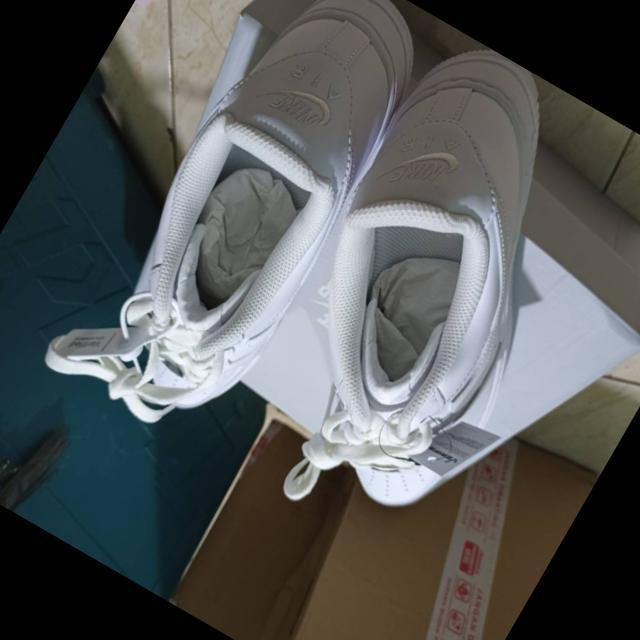nike original air force: (220, 22, 640, 535), (67, 0, 452, 442)
